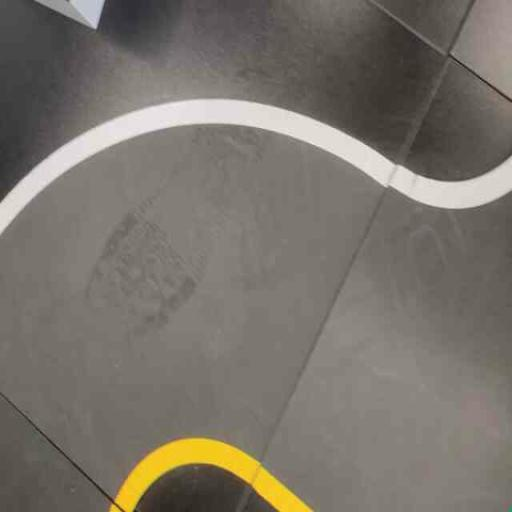left: (0, 38, 401, 511)
